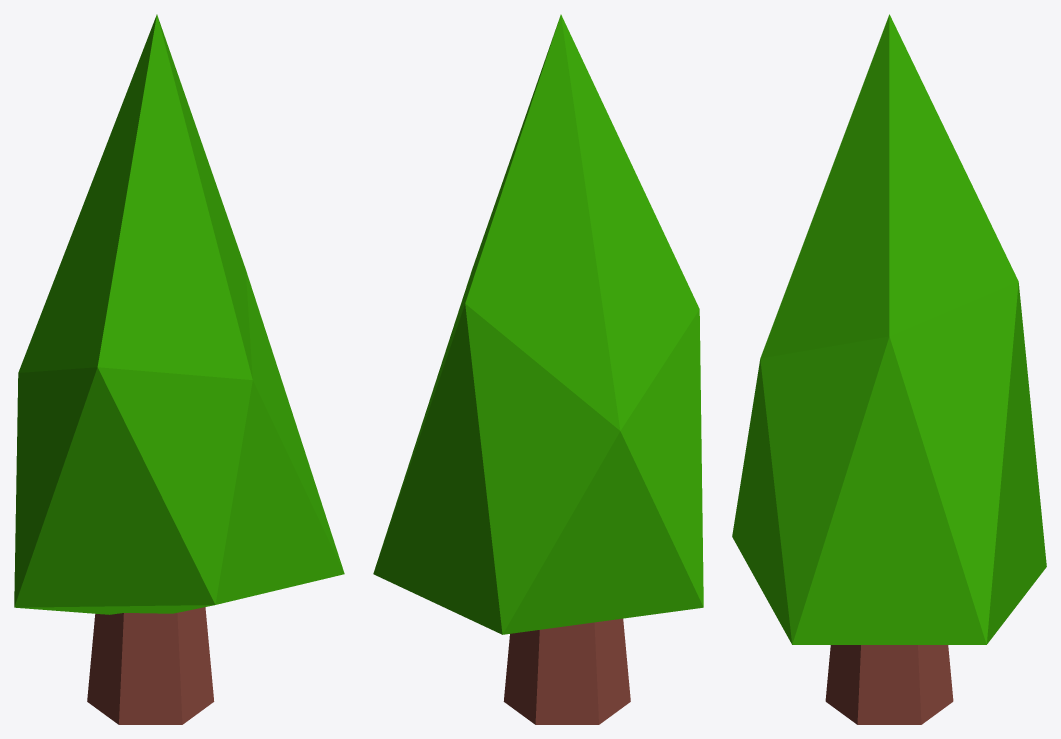
File: tree.glb
3 views of the same model, side by side, from view 1: azimuth 30°, elevation 25°; view 2: azimuth 150°, elevation 25°; view 3: azimuth 270°, elevation 25° (orthographic).
Visible parts, largest first — view 1: Tree; view 2: Tree; view 3: Tree.
Boxes of the visible parts, x1,y1,x2,y2 form: Tree: (14, 14, 344, 724); Tree: (373, 14, 703, 724); Tree: (732, 14, 1046, 724).
Size of the model in its own units: 1.76 by 4.09 by 1.69.
